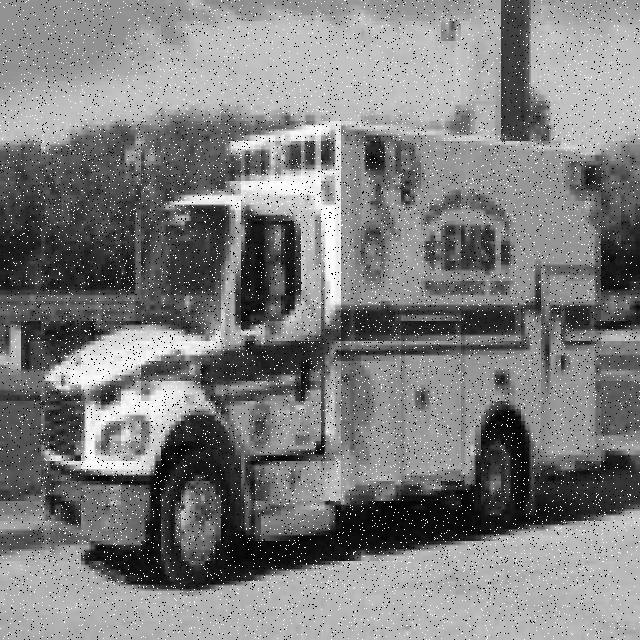Ambulance: (38, 123, 605, 590)
